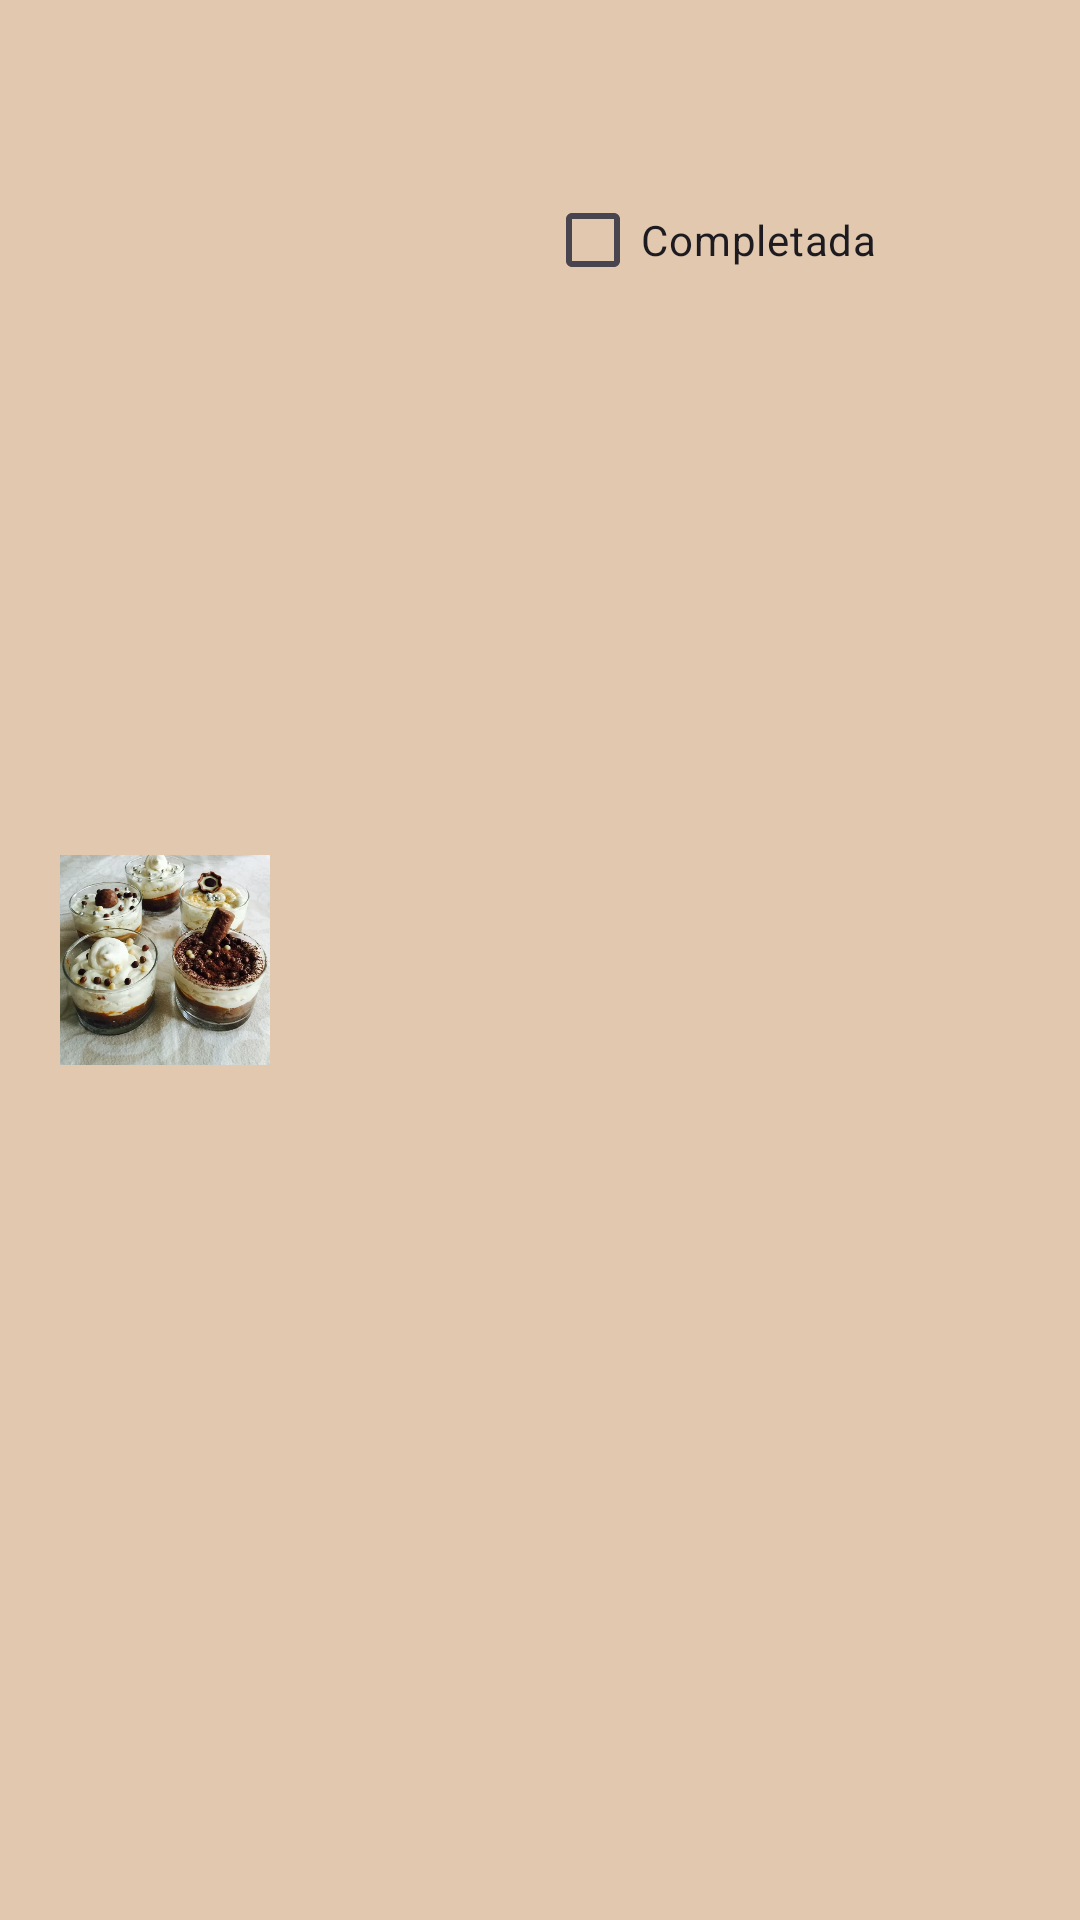

Icons on this 1080×1920 Android screen, each with the point to tap as (x=x, y=y):
recipe: (x=165, y=960)
